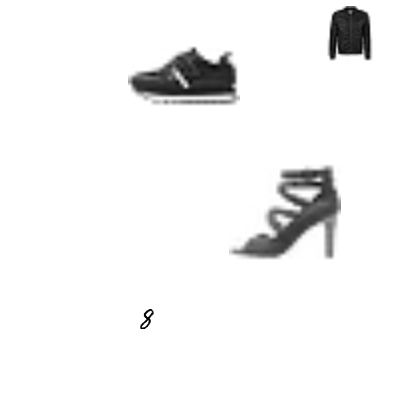8: (133, 305, 161, 333)
Coat: (322, 6, 378, 62), (203, 21, 217, 35)
Sandal: (229, 154, 341, 266)
Sneaker: (128, 20, 240, 132)
